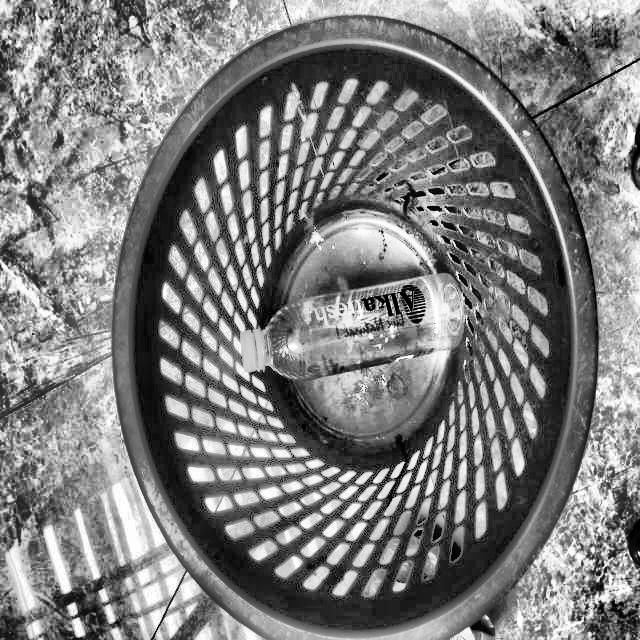Bottle-Disposed: (114, 16, 596, 640)
